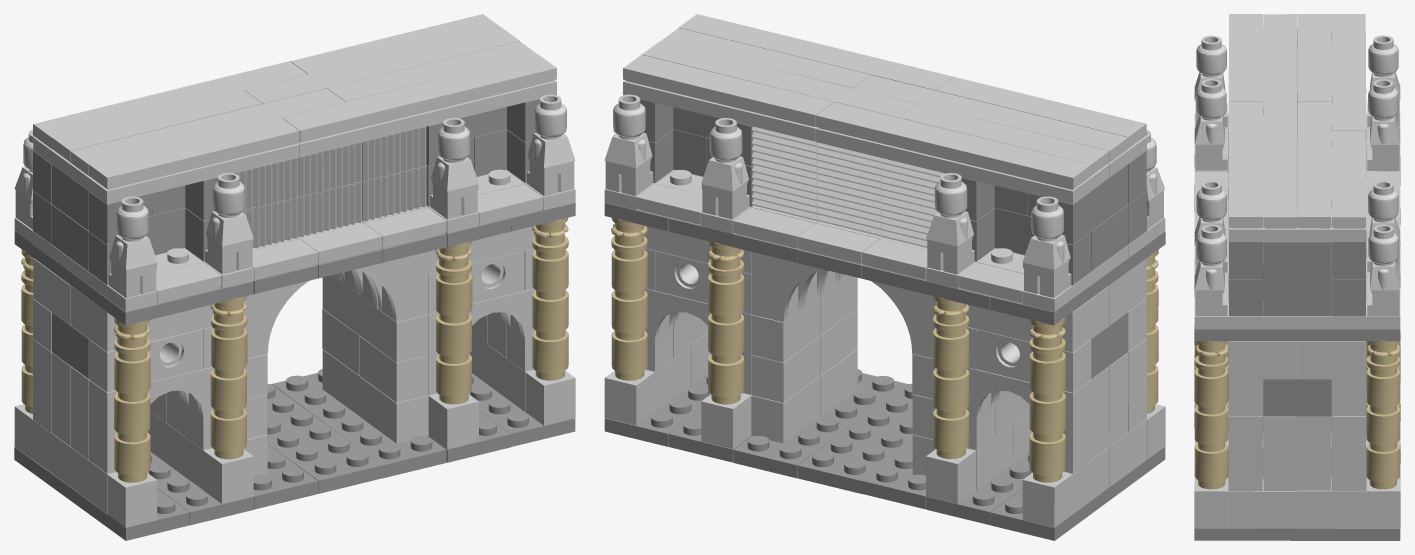
Rendered from arch-a.glb.
The picture shows the model from 3 angles, left to right: view 1: azimuth 30°, elevation 25°; view 2: azimuth 150°, elevation 25°; view 3: azimuth 270°, elevation 25°; orthographic projection. The views are drawn at different scales.
Parts seen in each view (by area): view 1: L25-007, L00-003, L25-006, L10-018, L00-004, L25-004, L25-000, L25-003, L04-014, L25-002, L24-003, L18-022 (+90 smaller); view 2: L25-000, L00-003, L25-001, L10-007, L00-004, L25-004, L25-007, L25-003, L04-004, L24-000, L25-006, L25-002 (+90 smaller); view 3: L25-003, L25-007, L25-004, L25-000, L25-005, L25-001, L25-002, L25-006, L00-006, L16-006, L18-003, L18-025 (+44 smaller).
Boxes of the visible parts, box(x1,y1,x2,y2) form: L25-007: box(282, 54, 556, 142); L00-003: box(267, 384, 382, 493); L25-006: box(89, 117, 299, 189); L10-018: box(243, 251, 428, 358); L00-004: box(271, 369, 446, 478); L25-004: box(70, 88, 344, 176); L25-000: box(33, 61, 307, 148); L25-003: box(244, 27, 519, 103); L04-014: box(89, 367, 213, 473); L25-002: box(51, 90, 262, 161); L24-003: box(298, 80, 556, 157); L18-022: box(108, 196, 157, 298); L25-000: box(816, 102, 1091, 189); L00-003: box(797, 383, 912, 493); L25-001: box(623, 55, 833, 126); L10-007: box(751, 252, 936, 358); L00-004: box(733, 369, 907, 478); L25-004: box(853, 75, 1128, 162); L25-007: box(679, 14, 953, 90); L25-003: box(641, 41, 916, 117); L04-004: box(966, 367, 1091, 473); L24-000: box(816, 127, 1109, 204); L25-006: box(936, 77, 1146, 148); L25-002: box(899, 104, 1109, 175); L25-003: box(1297, 101, 1331, 228); L25-007: box(1229, 101, 1262, 228); L25-004: box(1263, 14, 1297, 140); L25-000: box(1331, 14, 1366, 140); L25-005: box(1263, 130, 1297, 228); L25-001: box(1331, 130, 1365, 228); L25-002: box(1297, 14, 1331, 101); L25-006: box(1229, 14, 1262, 101); L00-006: box(1194, 499, 1400, 540); L16-006: box(1194, 300, 1400, 341); L18-003: box(1367, 224, 1400, 316); L18-025: box(1194, 224, 1227, 316).
Size of the model in its own units: 0.112 by 0.0832 by 0.048.
